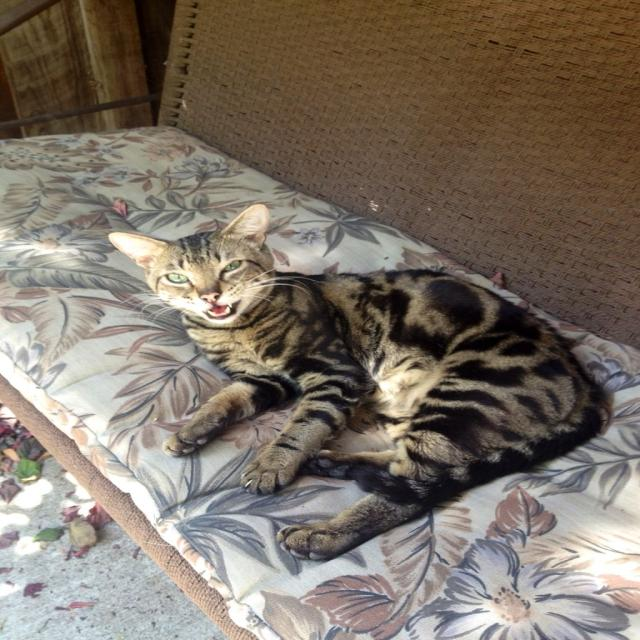Cat: (107, 203, 614, 561)
